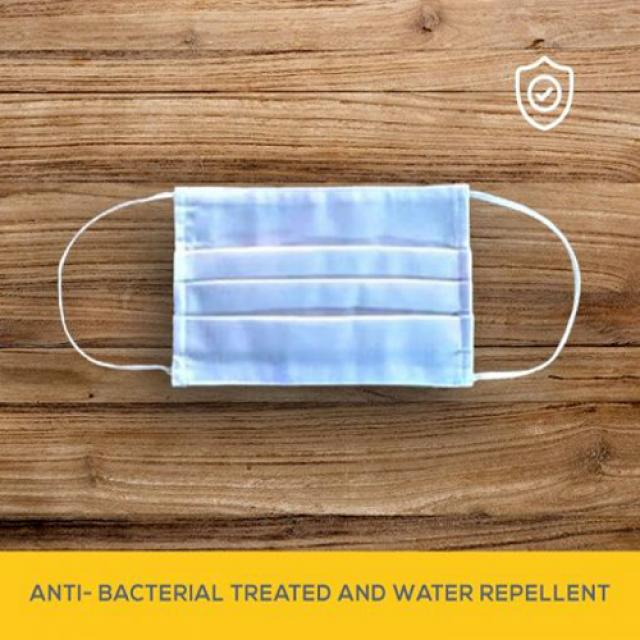non-organic waste: (56, 176, 580, 387)
